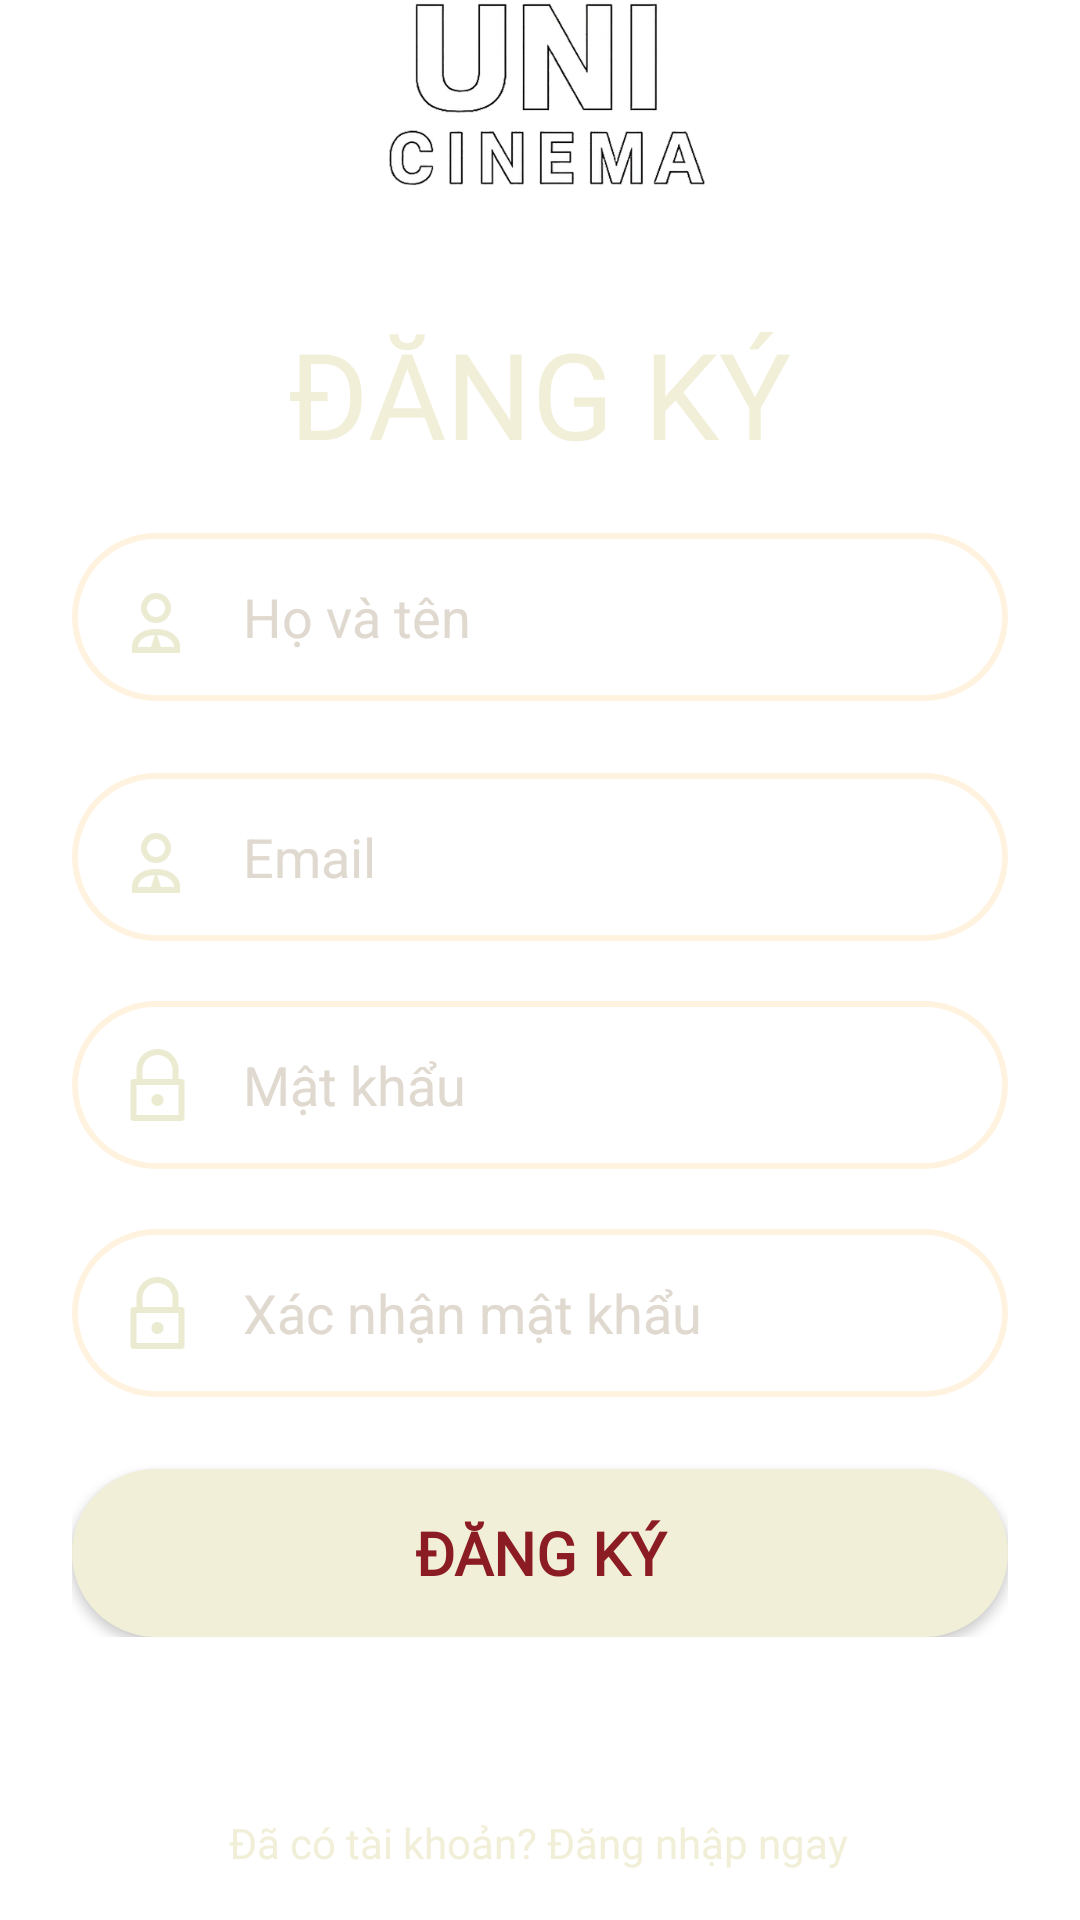

Icon click points for this 1080x1920 phone screenshot, format point (x, y):
pass: point (157, 1085), point (157, 1313)
user: point (156, 623), point (156, 863)
